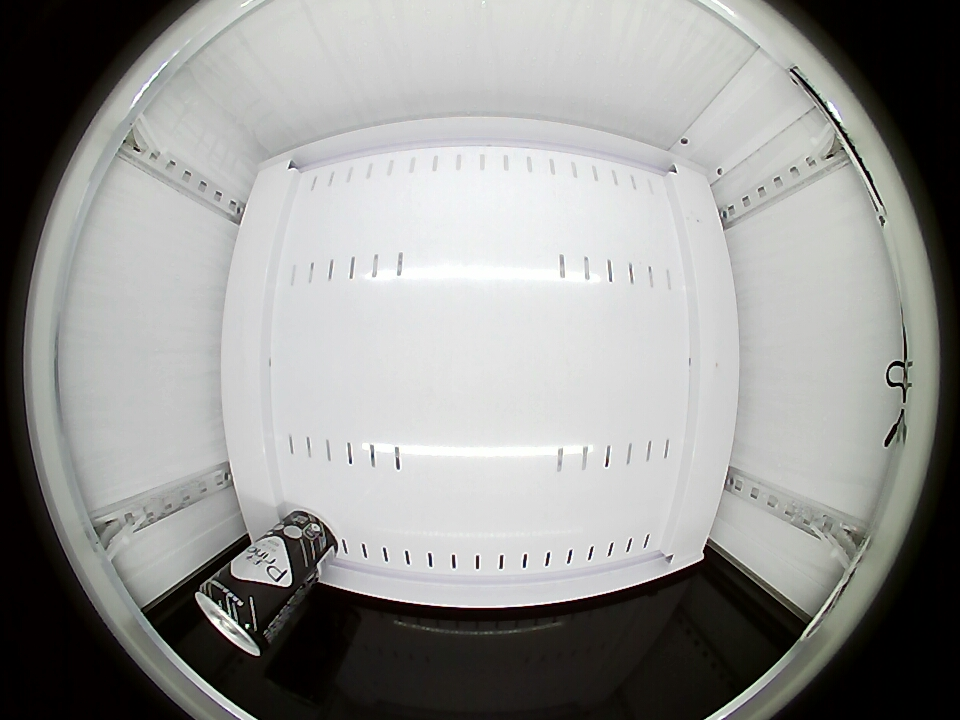qingdaowangzi-1: (195, 574, 279, 657)
